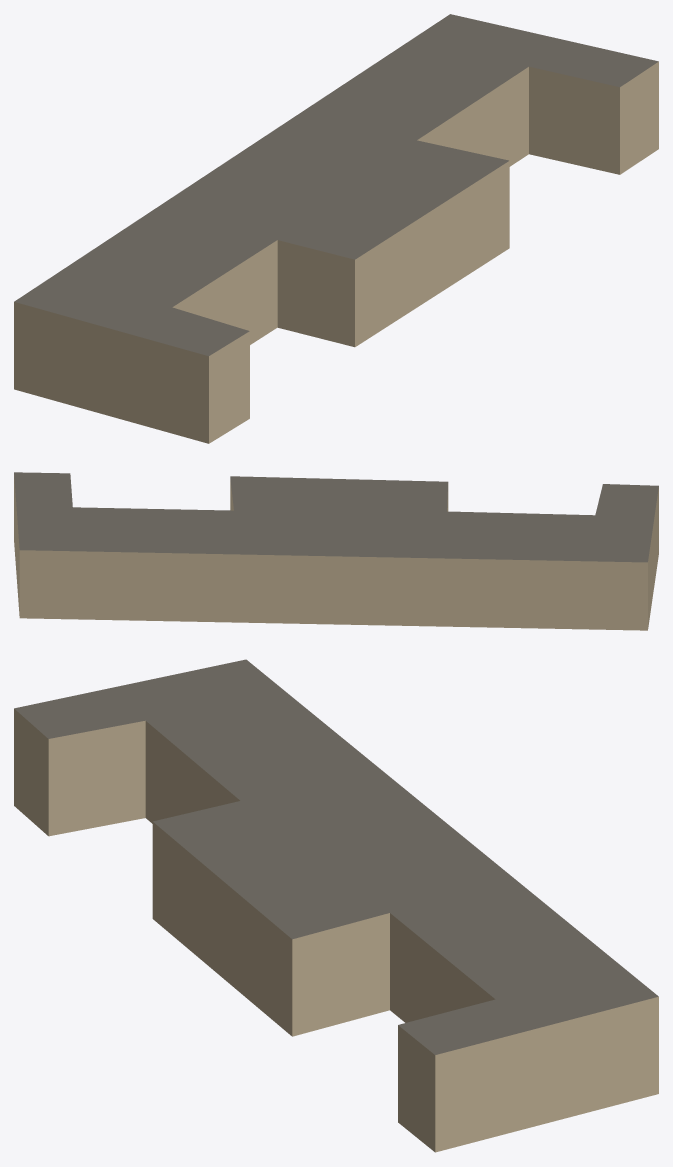
3 views of the same model, one above another, from view 1: azimuth 30°, elevation 25°; view 2: azimuth 150°, elevation 25°; view 3: azimuth 270°, elevation 25° (orthographic). The views are drawn at different scales.
Visible parts, largest first — view 1: HP-w493840181; view 2: HP-w493840181; view 3: HP-w493840181.
Boxes of the visible parts, x1,y1,x2,y2 form: HP-w493840181: (14, 14, 658, 443); HP-w493840181: (14, 472, 658, 630); HP-w493840181: (14, 659, 658, 1152).
Bounding box in the file's own units: 86.3 × 9.9 × 59.44.
